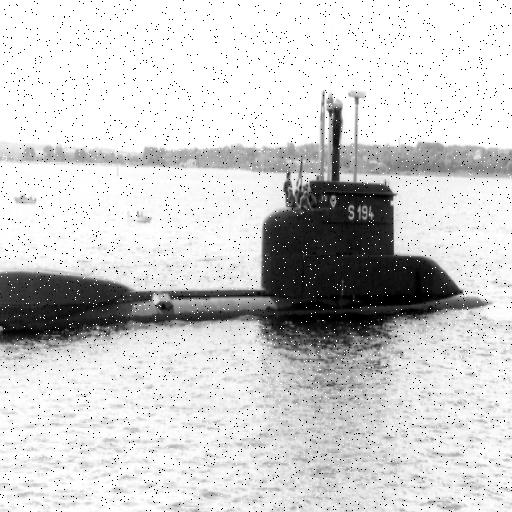submarine: (1, 60, 512, 329)
